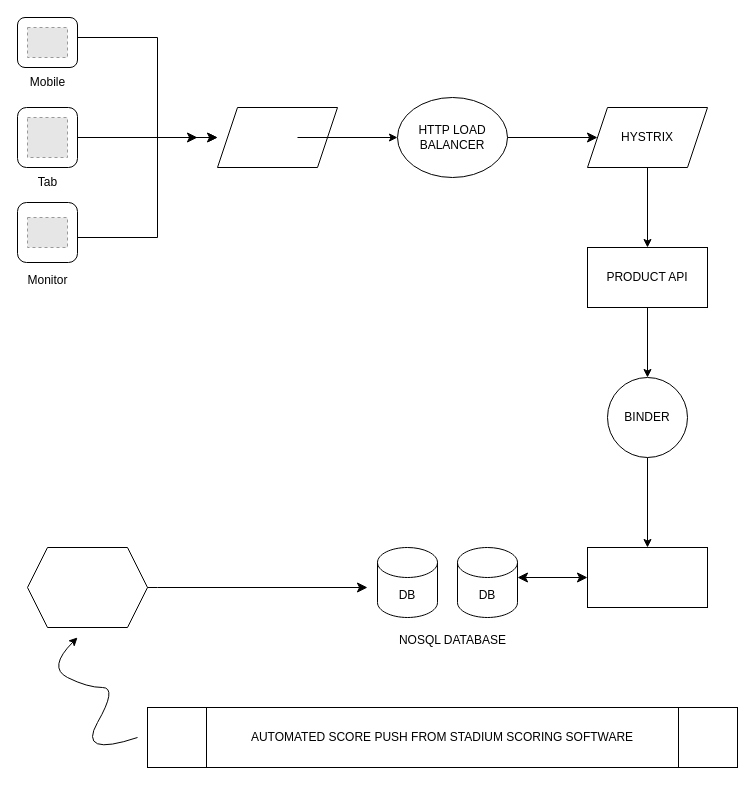
Some shapes in this 755 by 785 pixel diagram are drawn without their labels. Grey dashed boxes stand in for pictures. The shapes that lost their labels are listed below. From the top down, each one's centre as x and y in pixels, then its label:
the point at 277,137: UI
the point at 87,587: SCORE UPDATE
the point at 647,577: CRICKET CORE API
